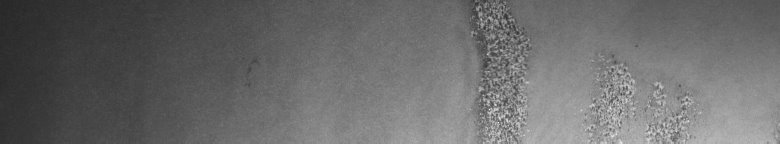hc: (468, 4, 702, 136)
